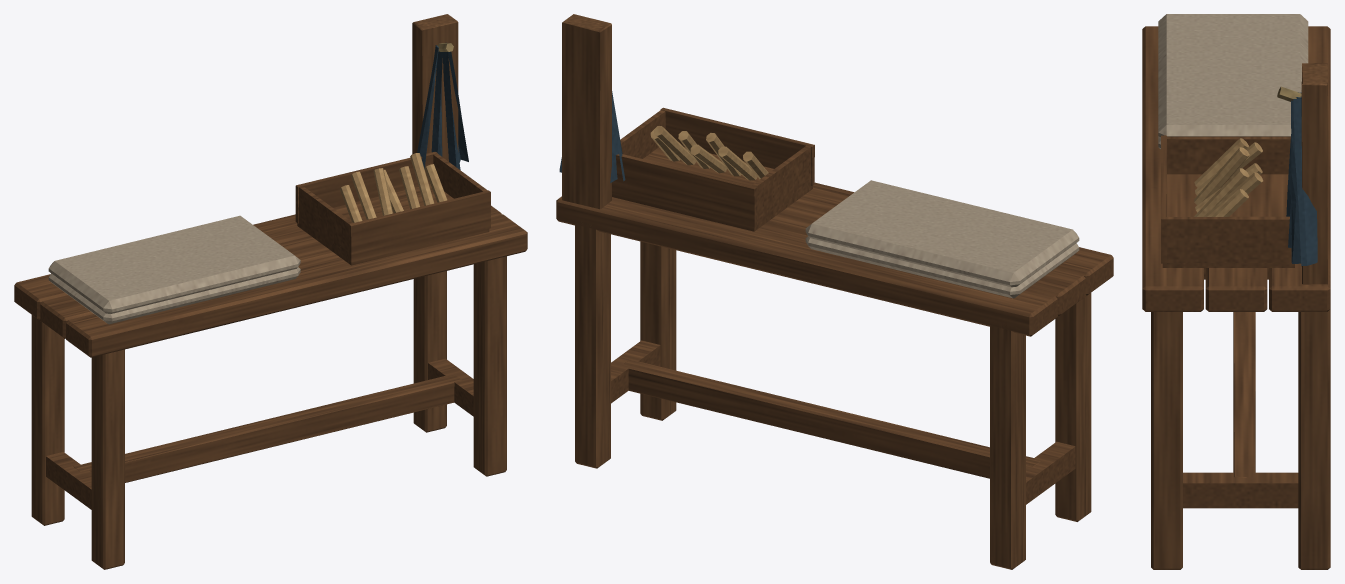
Rendered from TrialMendingBench_LOD1.fbx.
3 views of the same model, side by side, from view 1: azimuth 30°, elevation 25°; view 2: azimuth 150°, elevation 25°; view 3: azimuth 270°, elevation 25° (orthographic). The views are drawn at different scales.
Visible parts, largest first — view 1: TrialMendingBench.001; view 2: TrialMendingBench.001; view 3: TrialMendingBench.001.
Boxes of the visible parts, x1,y1,x2,y2 form: TrialMendingBench.001: (14, 14, 527, 569); TrialMendingBench.001: (556, 14, 1113, 569); TrialMendingBench.001: (1142, 14, 1330, 569).
Size of the model in its own units: 1.41 by 1.23 by 0.422.
1 material, 1 textured.
